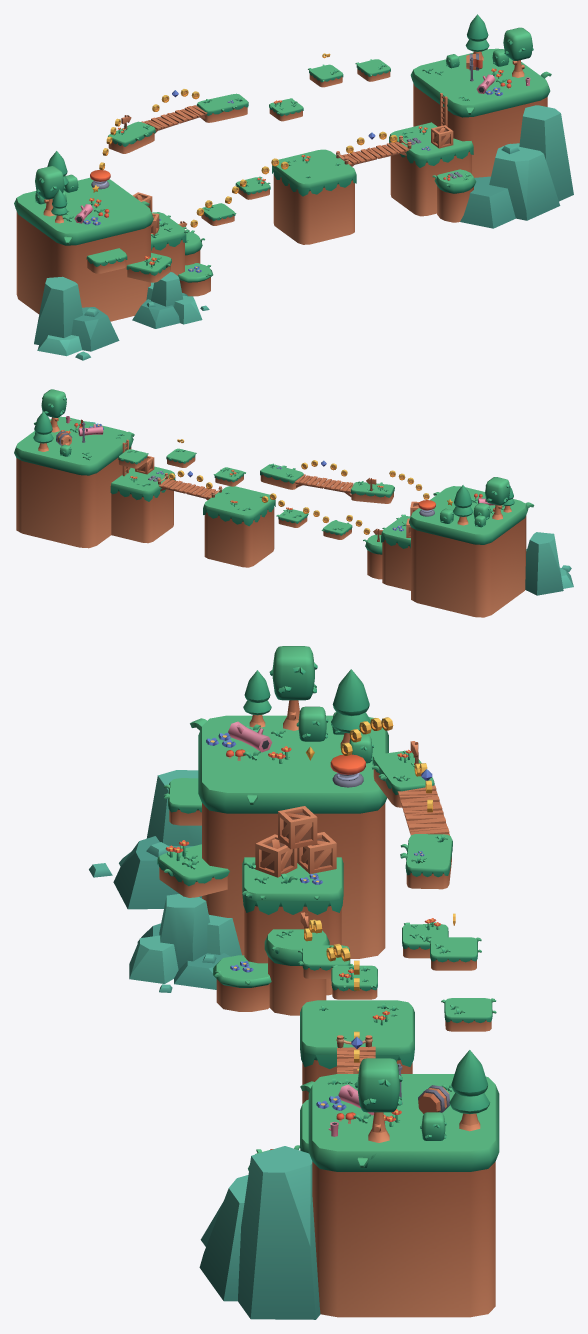
File: Map.fbx
The picture shows the model from 3 angles, top to bottom: view 1: azimuth 30°, elevation 25°; view 2: azimuth 150°, elevation 25°; view 3: azimuth 270°, elevation 25°; orthographic projection. The views are drawn at different scales.
Visible parts, largest first — view 1: block-grass-large-tall.004, block-grass-large-tall.003, rock-c.002, block-grass-overhang-large-tall.005, block-grass-overhang-large-tall.004, rock-a.002, rock-b.002, block-grass-narrow.004, block-grass-overhang-large-tall.006, block-grass-overhang-large.014, tree.008, block-grass-overhang-large.015 (+12 smaller); view 2: block-grass-large-tall.004, block-grass-large-tall.003, block-grass-overhang-large-tall.005, block-grass-overhang-large-tall.004, rock-a.002, block-grass-overhang-large-tall.006, block-grass-overhang-large.015, block-grass-overhang-large.014, tree.015, tree.008, block-grass-narrow.006, tree-pine.003 (+6 smaller); view 3: block-grass-large-tall.003, block-grass-large-tall.004, rock-c.002, rock-b.002, block-grass-overhang-large-tall.005, block-grass-overhang-large-tall.006, rock-a.002, block-grass-narrow.006, tree.008, block-grass-narrow.005, tree.015, block-grass-overhang-large.019 (+15 smaller).
Part boxes in pixels (box(x1,y1,x2,y2)): block-grass-large-tall.004: box(14, 177, 153, 321); block-grass-large-tall.003: box(410, 48, 550, 177); rock-c.002: box(460, 105, 573, 228); block-grass-overhang-large-tall.005: box(272, 149, 356, 244); block-grass-overhang-large-tall.004: box(389, 122, 473, 216); rock-a.002: box(34, 276, 119, 360); rock-b.002: box(132, 272, 209, 328); block-grass-narrow.004: box(434, 169, 476, 222); block-grass-overhang-large-tall.006: box(151, 212, 186, 275); block-grass-overhang-large.014: box(196, 93, 248, 122); tree.008: box(503, 27, 533, 77); block-grass-overhang-large.015: box(108, 121, 155, 153); block-grass-large-tall.004: box(409, 486, 528, 617); block-grass-large-tall.003: box(14, 416, 133, 548); block-grass-overhang-large-tall.005: box(203, 486, 275, 567); block-grass-overhang-large-tall.004: box(110, 466, 175, 543); rock-a.002: box(525, 532, 573, 595); block-grass-overhang-large-tall.006: box(381, 516, 410, 590); block-grass-overhang-large.015: box(350, 482, 394, 503); block-grass-overhang-large.014: box(260, 464, 303, 489); tree.015: box(485, 477, 510, 519); tree.008: box(41, 389, 66, 432); block-grass-narrow.006: box(365, 534, 382, 579); tree-pine.003: box(33, 411, 53, 451); block-grass-large-tall.003: box(308, 1074, 499, 1317); block-grass-large-tall.004: box(198, 715, 388, 958); rock-c.002: box(199, 1146, 320, 1319); rock-b.002: box(129, 894, 241, 992); block-grass-overhang-large-tall.005: box(300, 1000, 414, 1103); block-grass-overhang-large-tall.006: box(242, 857, 343, 995); rock-a.002: box(89, 770, 201, 909); block-grass-narrow.006: box(264, 929, 329, 1015); tree.008: box(354, 1058, 402, 1142); block-grass-narrow.005: box(213, 955, 271, 1011); tree.015: box(269, 646, 317, 730); block-grass-overhang-large.019: box(157, 844, 229, 897).
Size of the model in its own units: 2931 by 743 by 1063.
200 materials, 200 textured.
